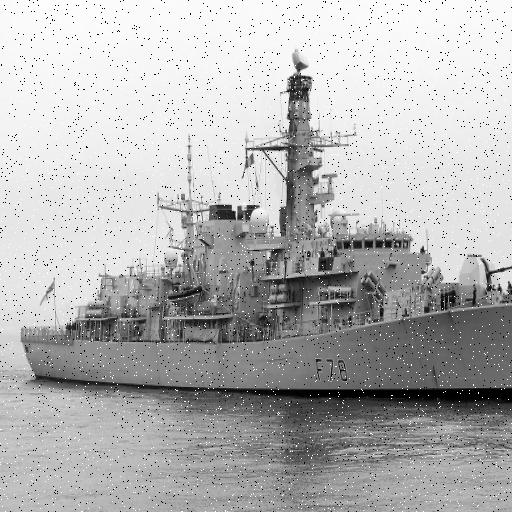Fragata: (14, 43, 512, 412)
